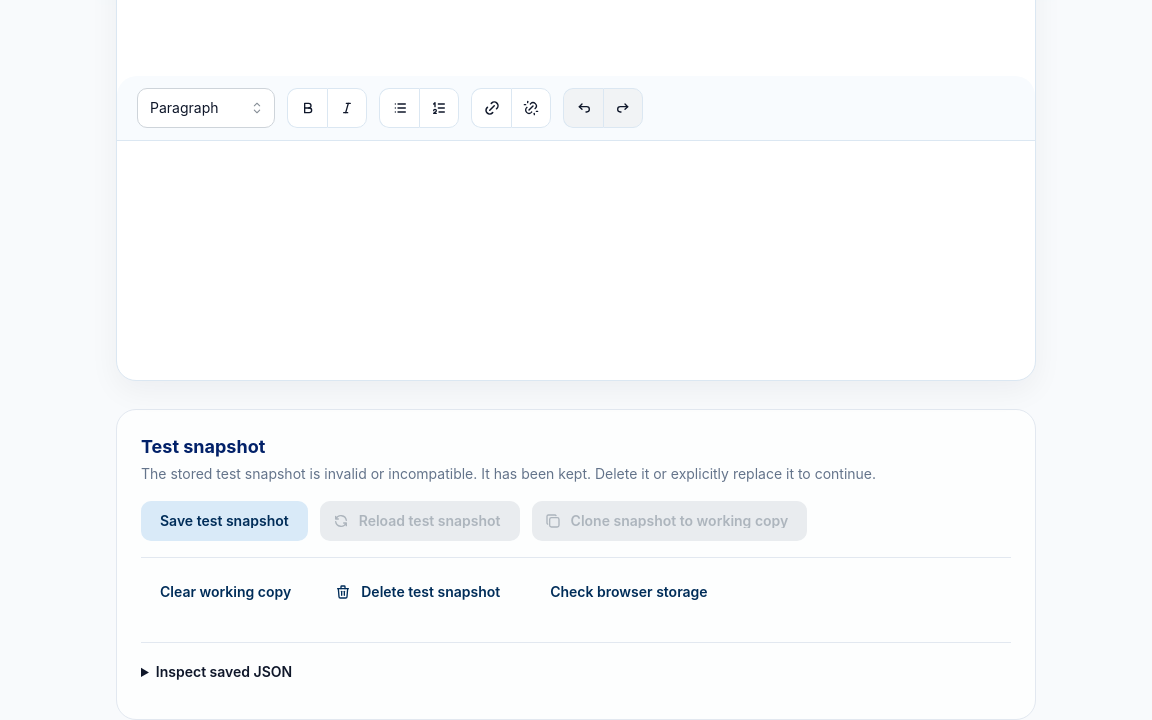
shows invalid stored text escaped, preserves it, and disables preview and reload
(page scrolled)
expect the text "invalid or incompatible" is shown: met, box [141,465,876,482]
expect the button "Reload test snapshot" is disabled: met, box [320,501,520,541]
Click the heading "Inspect saved JSON".
click(224, 671)  # box [156,663,292,680]
(page scrolled)
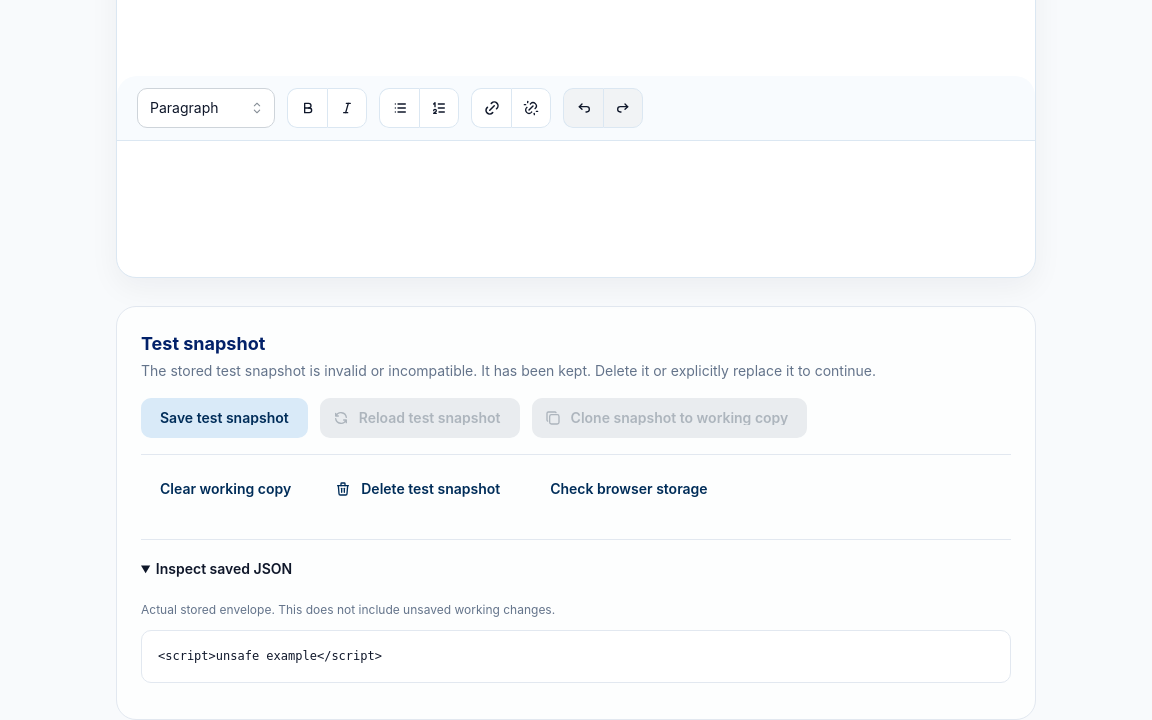
expect the text "<script>unsafe example</script>" is shown: met, box [141,630,1011,683]
